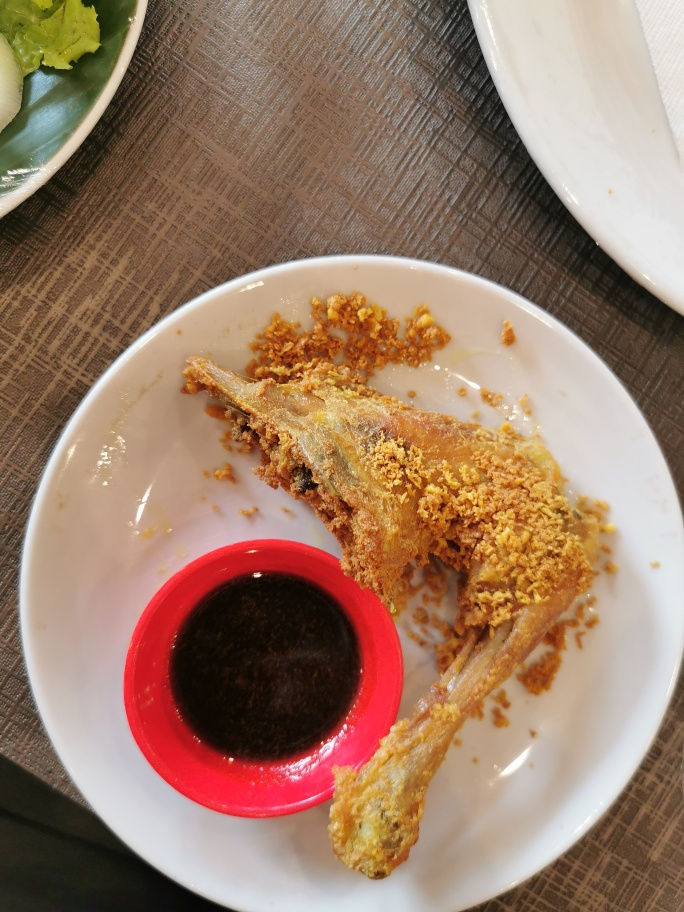ayam goreng: (183, 354, 591, 882)
kecap: (136, 546, 402, 816)
